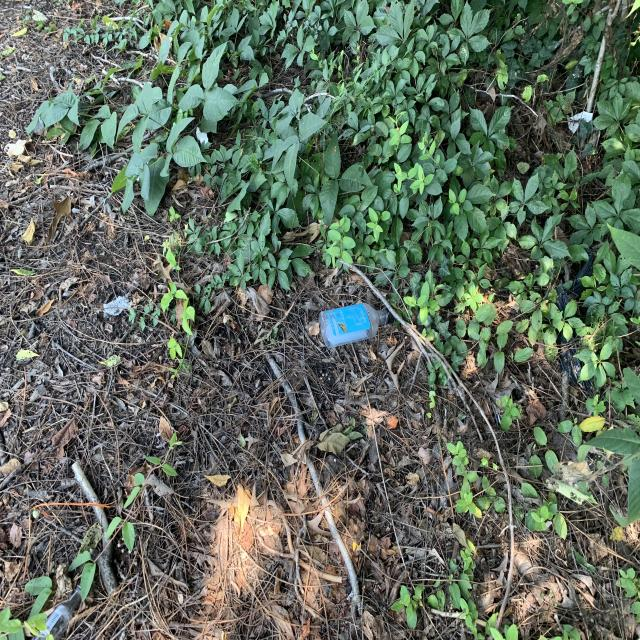Plastic: (314, 298, 398, 354)
